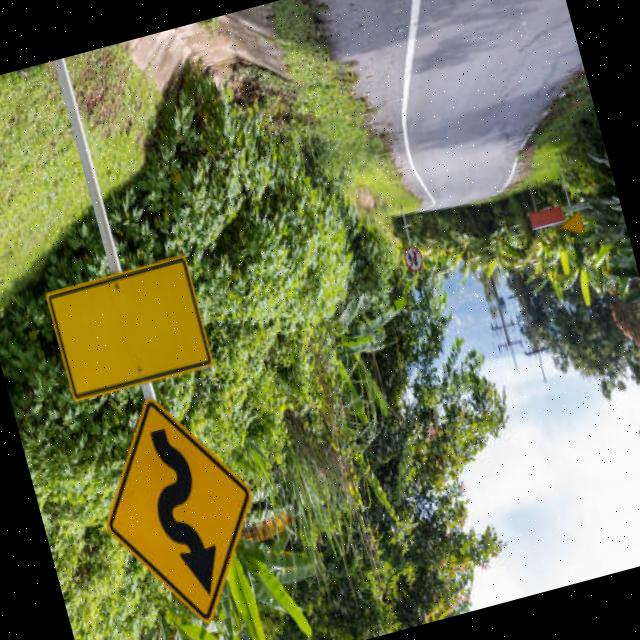left_sharp_curve: (74, 381, 284, 640)
